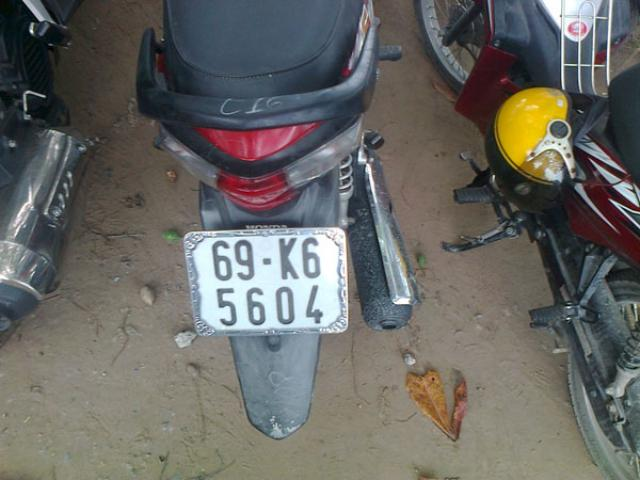plate: (186, 228, 350, 342)
